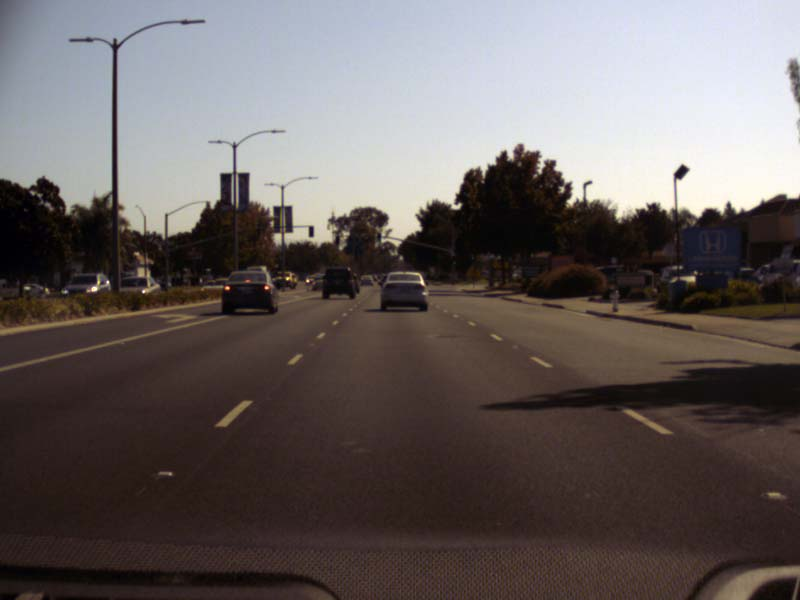Green: (452, 256, 456, 265), (376, 233, 380, 240), (470, 255, 474, 260)
